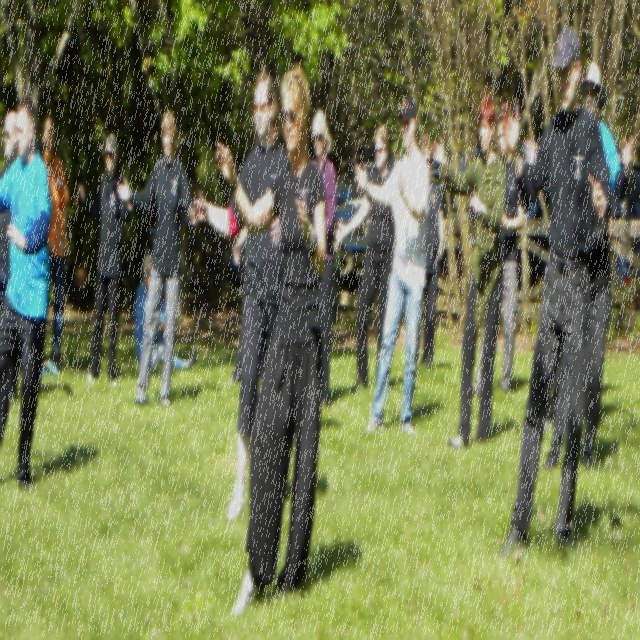pessoa: (212, 56, 331, 634), (498, 21, 616, 576), (192, 69, 290, 524), (431, 88, 506, 464), (114, 104, 202, 420), (353, 91, 431, 438), (541, 96, 612, 476), (0, 96, 52, 488), (523, 58, 635, 204), (334, 124, 394, 396), (76, 128, 134, 394), (471, 106, 523, 402), (310, 106, 338, 409), (40, 113, 71, 374), (134, 252, 198, 372), (416, 133, 444, 372), (66, 174, 102, 318), (0, 110, 19, 310), (228, 323, 267, 392), (616, 134, 640, 221)
